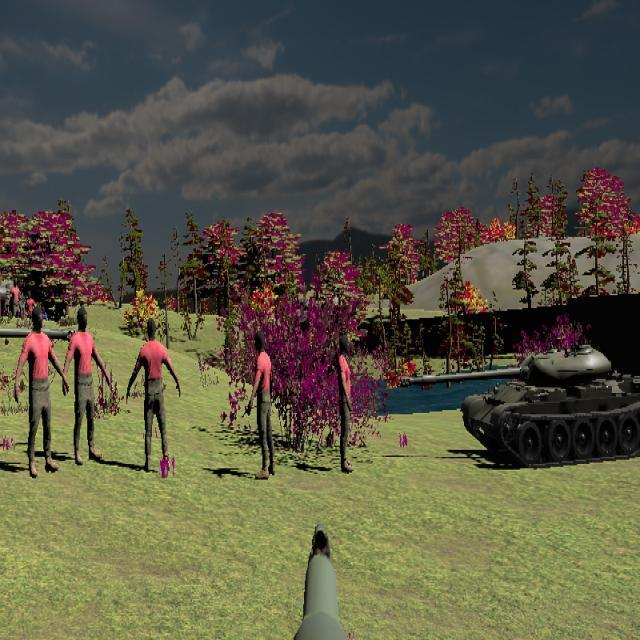Human: (14, 303, 69, 478), (126, 318, 180, 471), (63, 305, 111, 466), (246, 331, 275, 480), (337, 333, 357, 473)
Tank: (396, 340, 640, 470), (0, 302, 76, 380)
